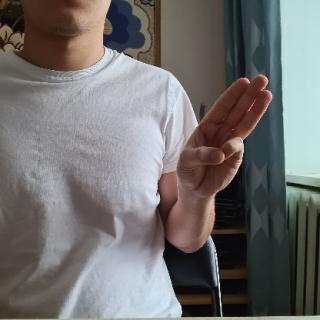THA: (173, 70, 272, 204)
